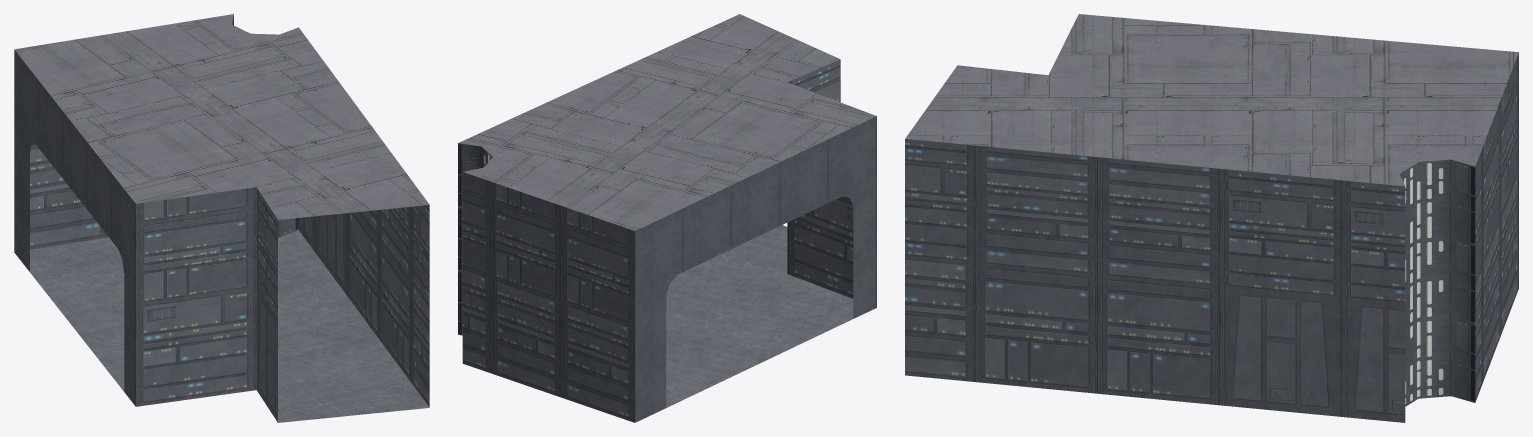
The model's file is mun_all_starport_s01_u01_r16_arrivals3_mesh_r16.fbx.
3 views of the same model, side by side, from view 1: azimuth 30°, elevation 25°; view 2: azimuth 150°, elevation 25°; view 3: azimuth 270°, elevation 25° (orthographic). The views are drawn at different scales.
Visible parts, largest first — view 1: mesh_node; view 2: mesh_node; view 3: mesh_node.
Part boxes in pixels (bbox=[...]): mesh_node: bbox=[14, 14, 429, 422]; mesh_node: bbox=[458, 14, 876, 422]; mesh_node: bbox=[905, 14, 1518, 422].
Size of the model in its own units: 9.38 by 6 by 14.11.
